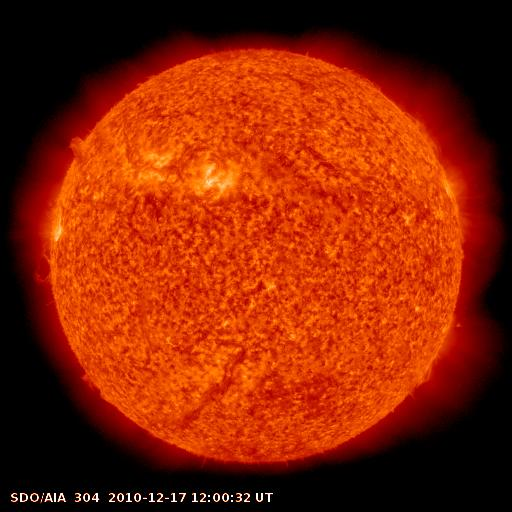prominence: (53, 123, 101, 170), (28, 245, 63, 295)
